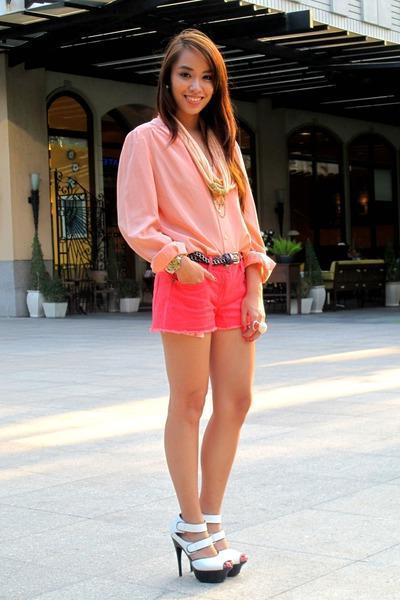Shorts: (143, 249, 262, 337)
long sleeve shirt: (115, 117, 273, 277)
